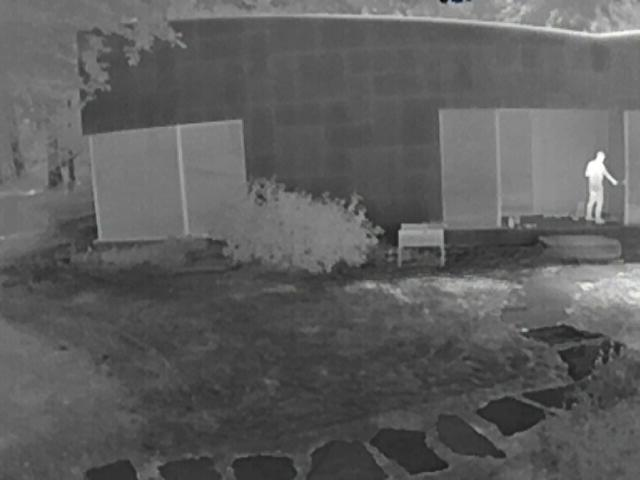person: (584, 150, 618, 224)
